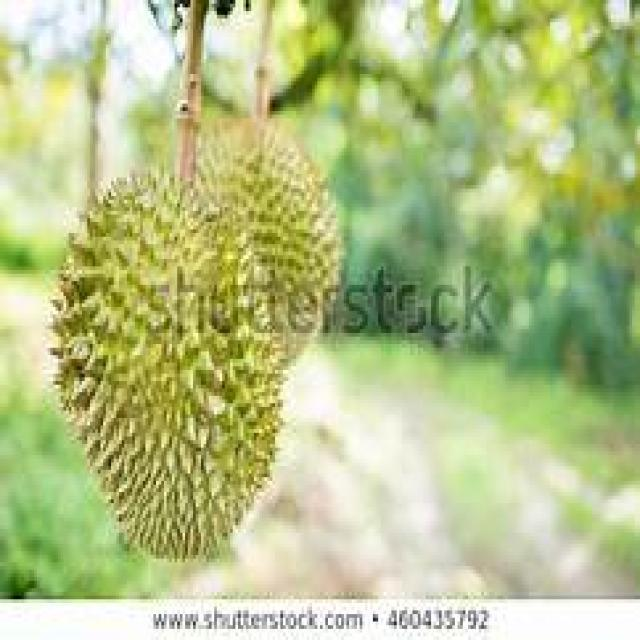immature: (52, 133, 338, 559)
